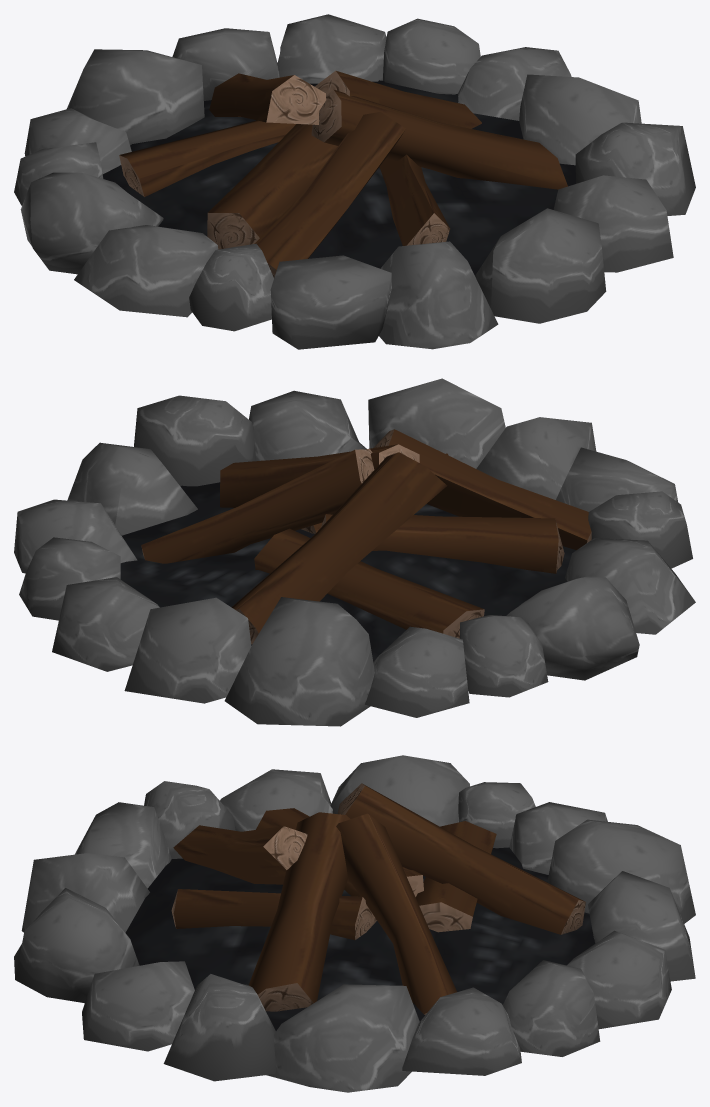
Rendered from SM_PROP_campfire_city.fbx.
The picture shows the model from 3 angles, top to bottom: view 1: azimuth 30°, elevation 25°; view 2: azimuth 150°, elevation 25°; view 3: azimuth 270°, elevation 25°; orthographic projection.
Visible parts, largest first — view 1: SM_PROP_campfire_city; view 2: SM_PROP_campfire_city; view 3: SM_PROP_campfire_city.
Boxes of the visible parts, x1,y1,x2,y2 form: SM_PROP_campfire_city: [14, 14, 695, 349]; SM_PROP_campfire_city: [14, 378, 695, 726]; SM_PROP_campfire_city: [14, 755, 695, 1092].
Size of the model in its own units: 115 by 29.52 by 116.
